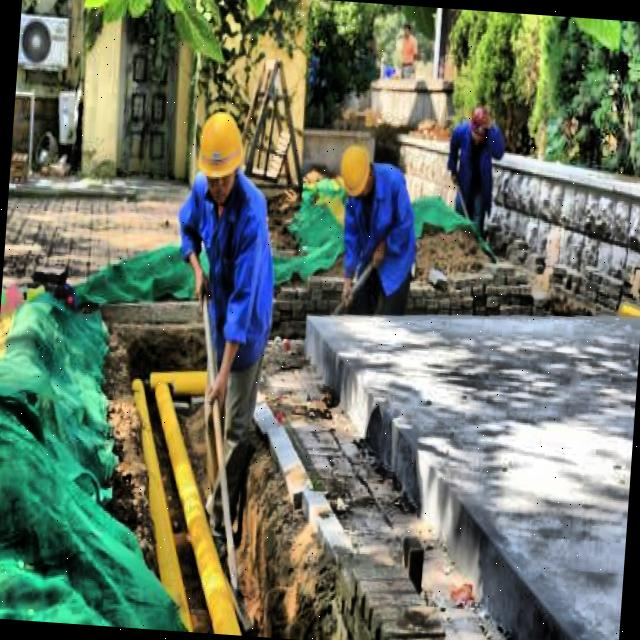helmet: (192, 100, 248, 201), (331, 138, 372, 198), (464, 100, 494, 148)
